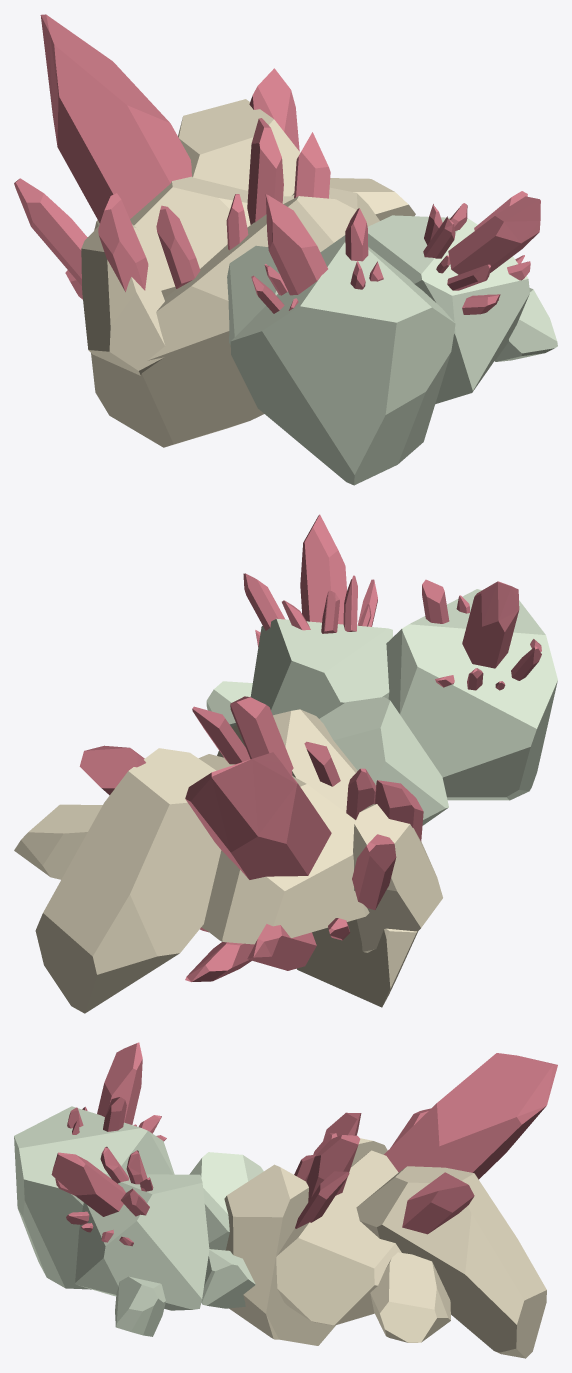
File: CrystalRock1.fbx
3 views of the same model, one above another, from view 1: azimuth 30°, elevation 25°; view 2: azimuth 150°, elevation 25°; view 3: azimuth 270°, elevation 25° (orthographic). The views are drawn at different scales.
Parts seen in each view (by area): view 1: Cylinder.044; view 2: Cylinder.044; view 3: Cylinder.044.
Boxes of the visible parts, bbox=[...] form: Cylinder.044: bbox=[14, 14, 557, 485]; Cylinder.044: bbox=[14, 514, 557, 1013]; Cylinder.044: bbox=[14, 1042, 557, 1358].
Size of the model in its own units: 279 by 235 by 425.
